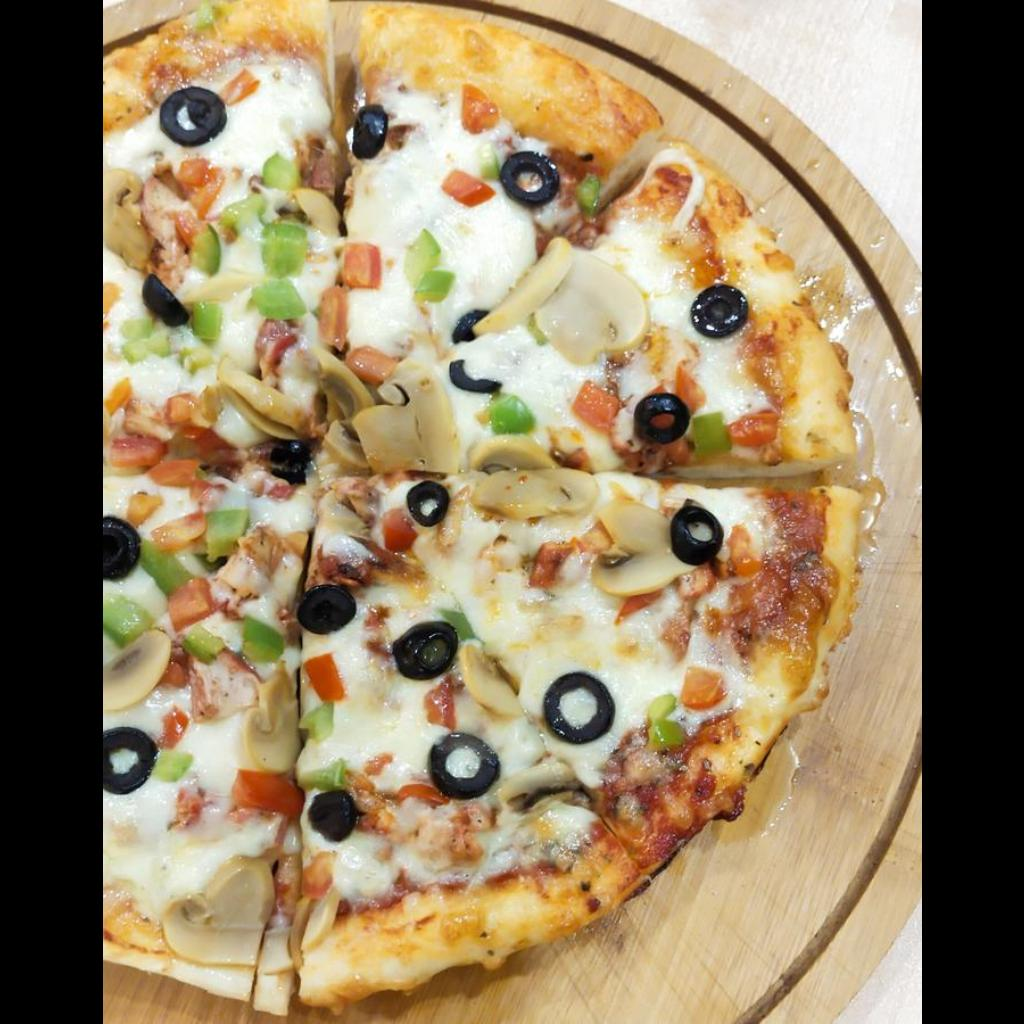ruti: (102, 1, 862, 1017)
